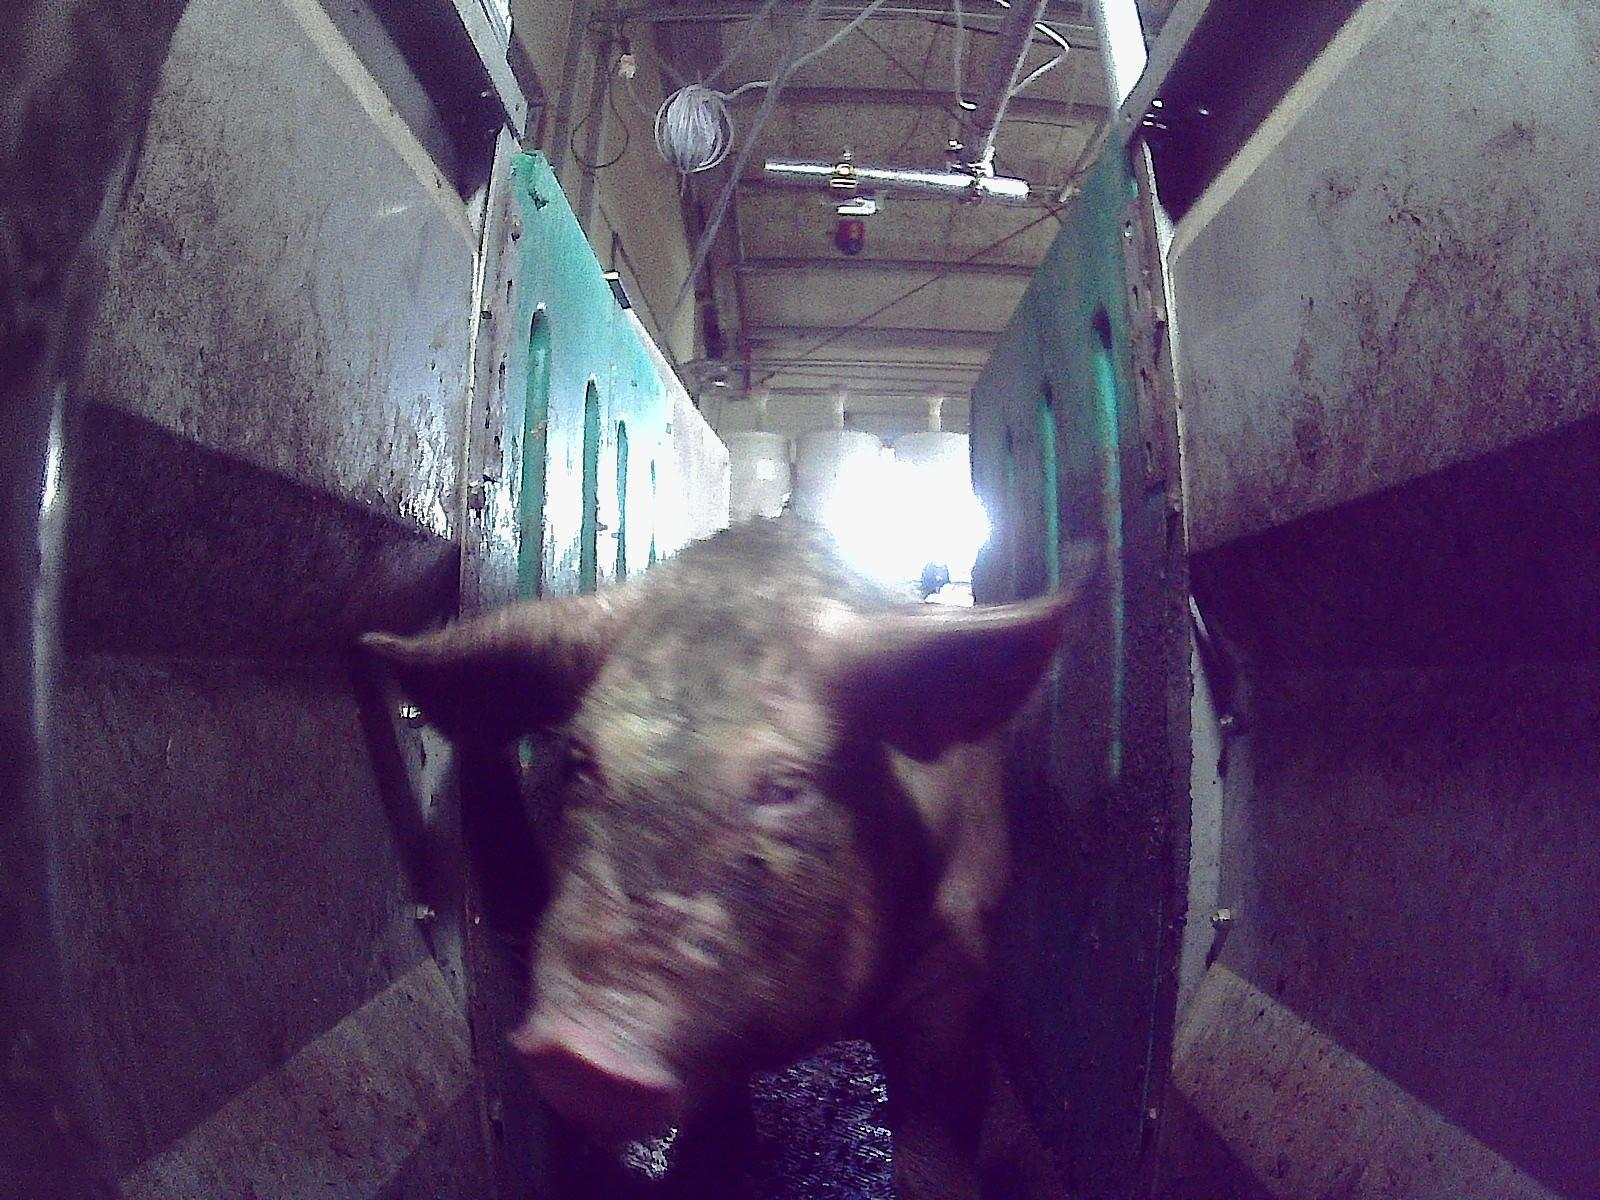Face: (502, 567, 876, 1149)
